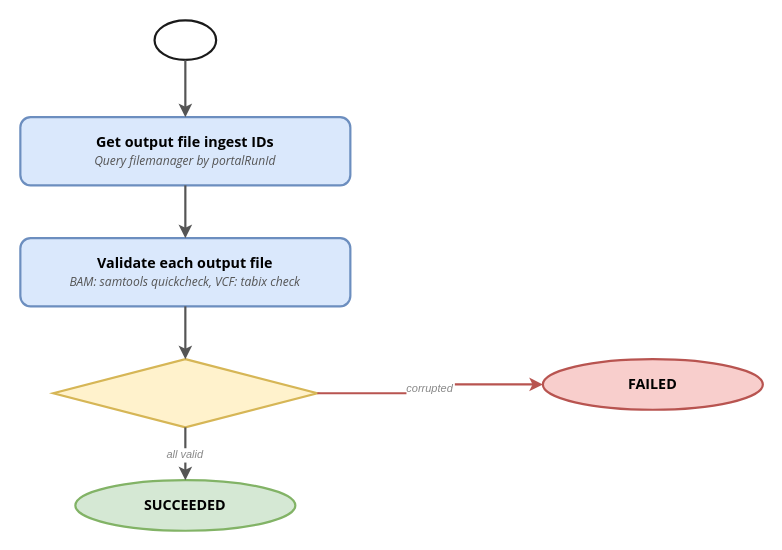
The diagram is 782 pixels wide and 550 high, and some of its shapes have lost their labels. The shapes that lost their labels are listed below. From the top down, each one's centre as x and y in pixels, then its label:
At pixel 185 40: "Start".
At pixel 185 393: "Any files corrupted?".
